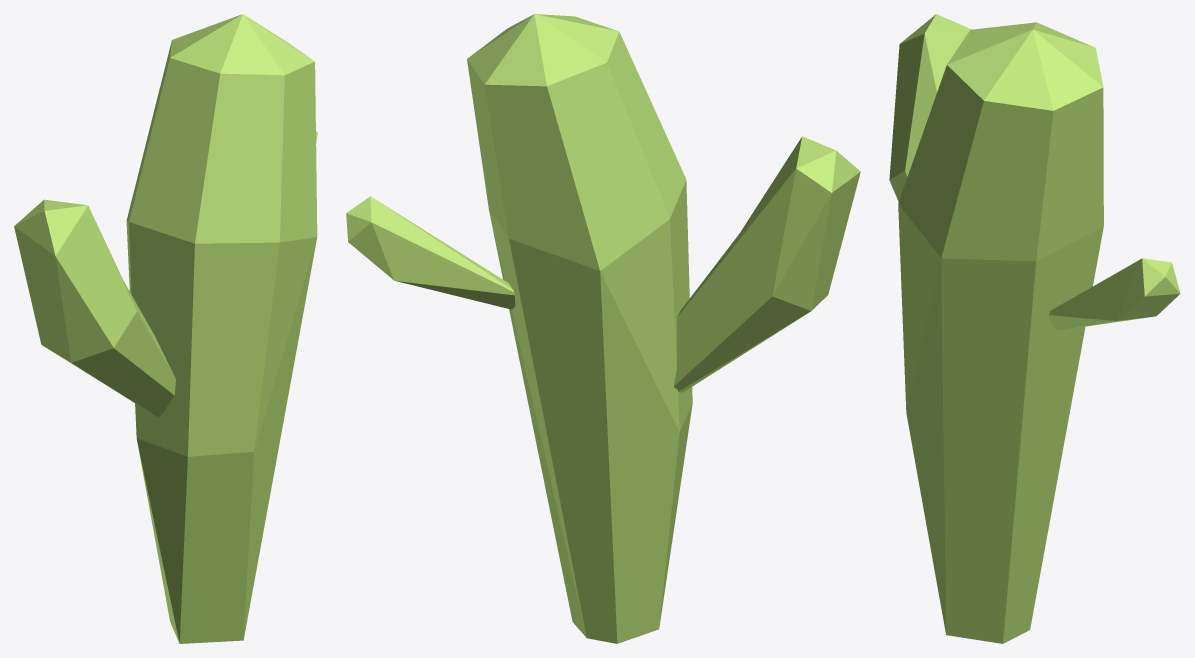
The model's file is Cactus_a_m_BT_05.fbx.
3 renders of one model, left to right at view 1: azimuth 30°, elevation 25°; view 2: azimuth 150°, elevation 25°; view 3: azimuth 270°, elevation 25°, orthographic. The views are drawn at different scales.
Visible parts, largest first — view 1: Cactus_a_m_BT_05; view 2: Cactus_a_m_BT_05; view 3: Cactus_a_m_BT_05.
Boxes of the visible parts, x1=… form: Cactus_a_m_BT_05: x1=14, y1=14, x2=317, y2=643; Cactus_a_m_BT_05: x1=346, y1=14, x2=860, y2=643; Cactus_a_m_BT_05: x1=889, y1=14, x2=1180, y2=643.
Size of the model in its own units: 152 by 222 by 93.68.
